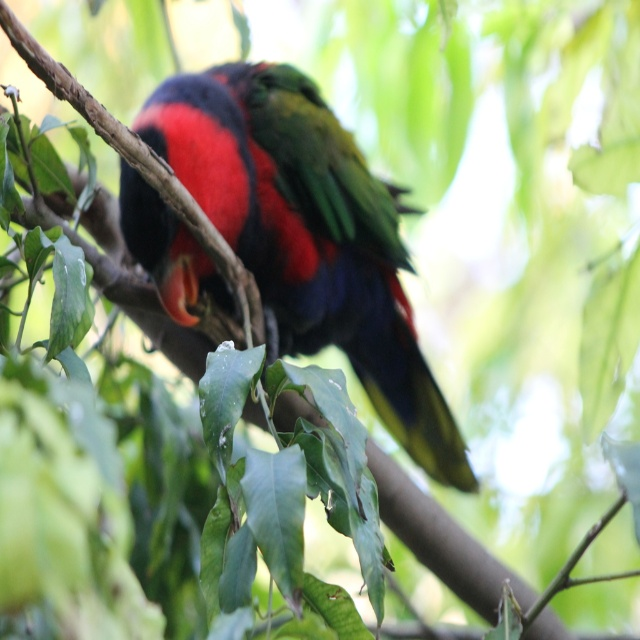Parrot: (119, 60, 480, 494)
